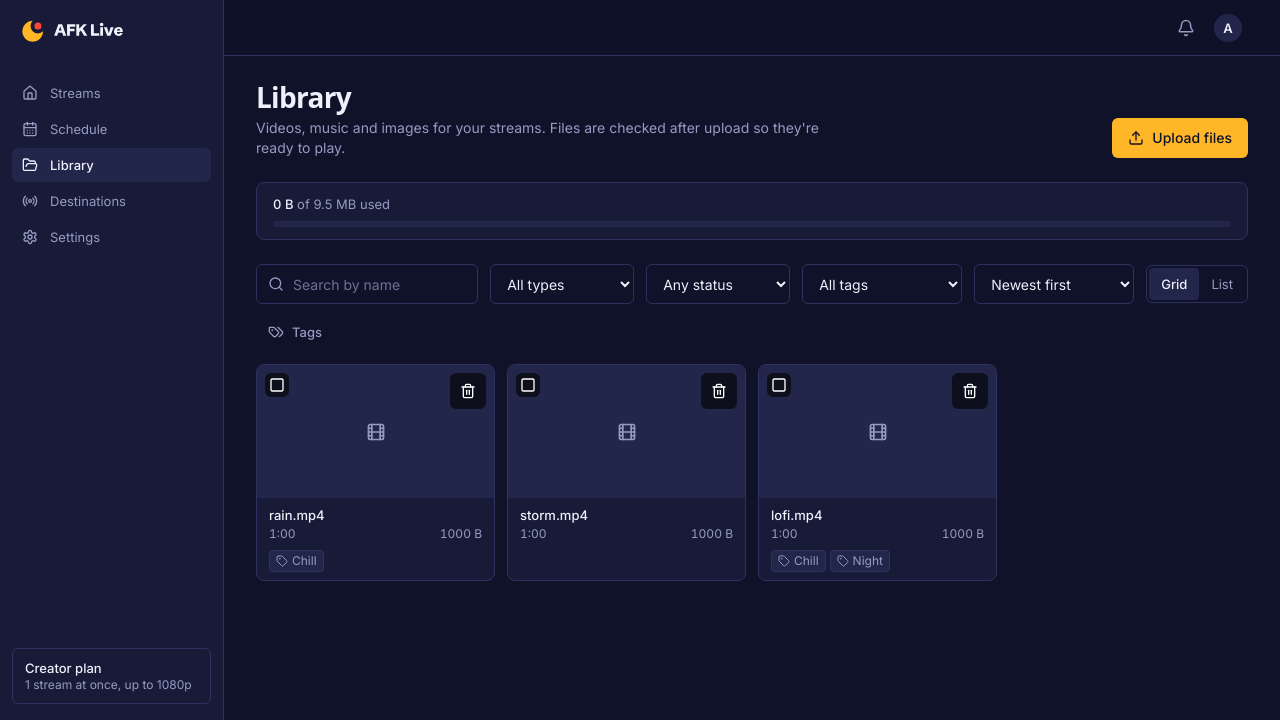
Test: Library tags (ML-8) › shows tags on files and filters the library by a tag
The image size is (1280, 720).
Expected: the 2nd text "Chill" is shown, [794, 553, 819, 569]
Expected: the text "Night" is shown, [853, 553, 883, 569]
Select "Night (1)" in the dropdown named "Tag": (882, 284) [802, 264, 962, 304]
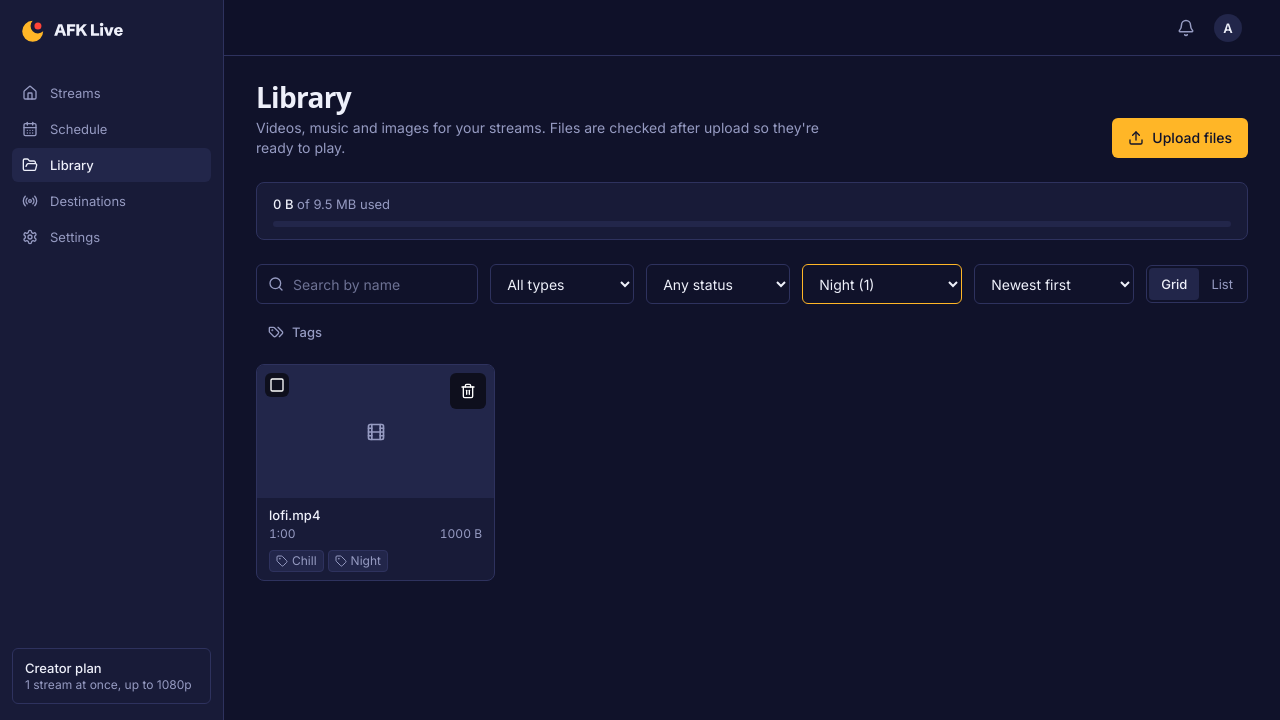
Expected: the text "lofi.mp4" is shown, [269, 507, 320, 523]
Expected: the button "rain.mp4" is gone
Select "No tags" in the dropdown named "Tag": (882, 284) [802, 264, 962, 304]
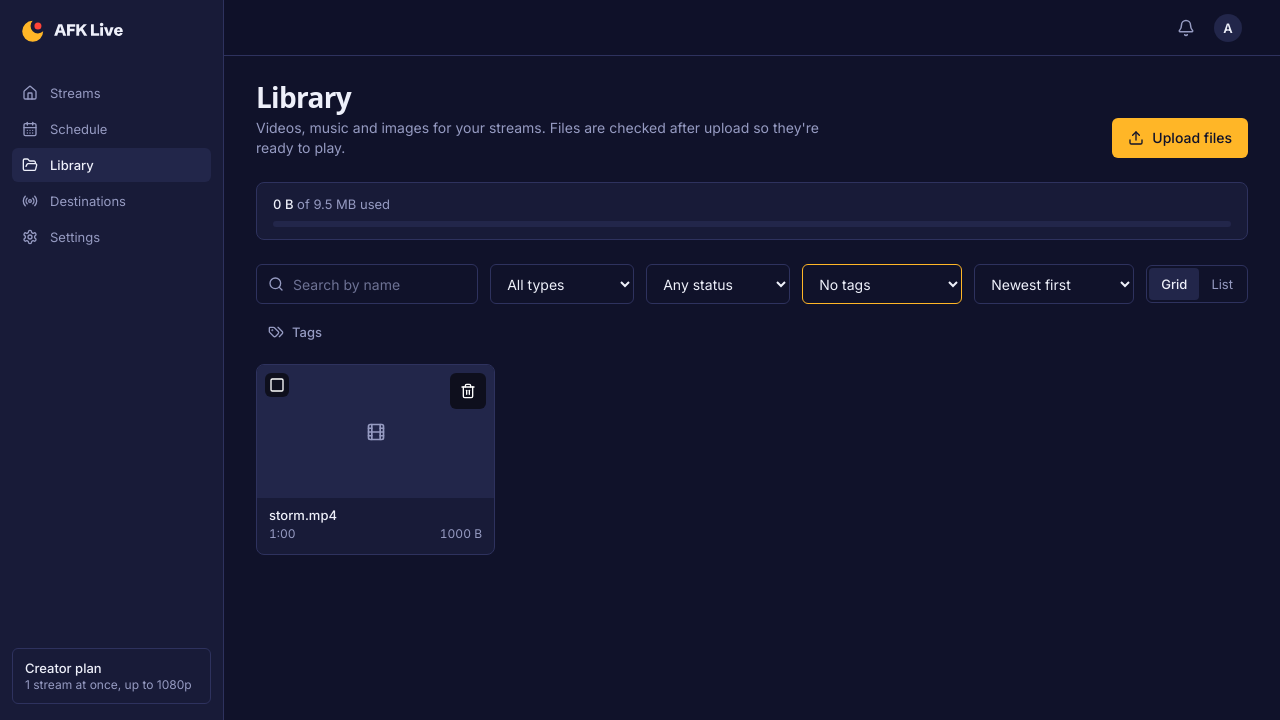
Expected: the text "storm.mp4" is shown, [269, 507, 337, 523]
Expected: the button "lofi.mp4" is gone
